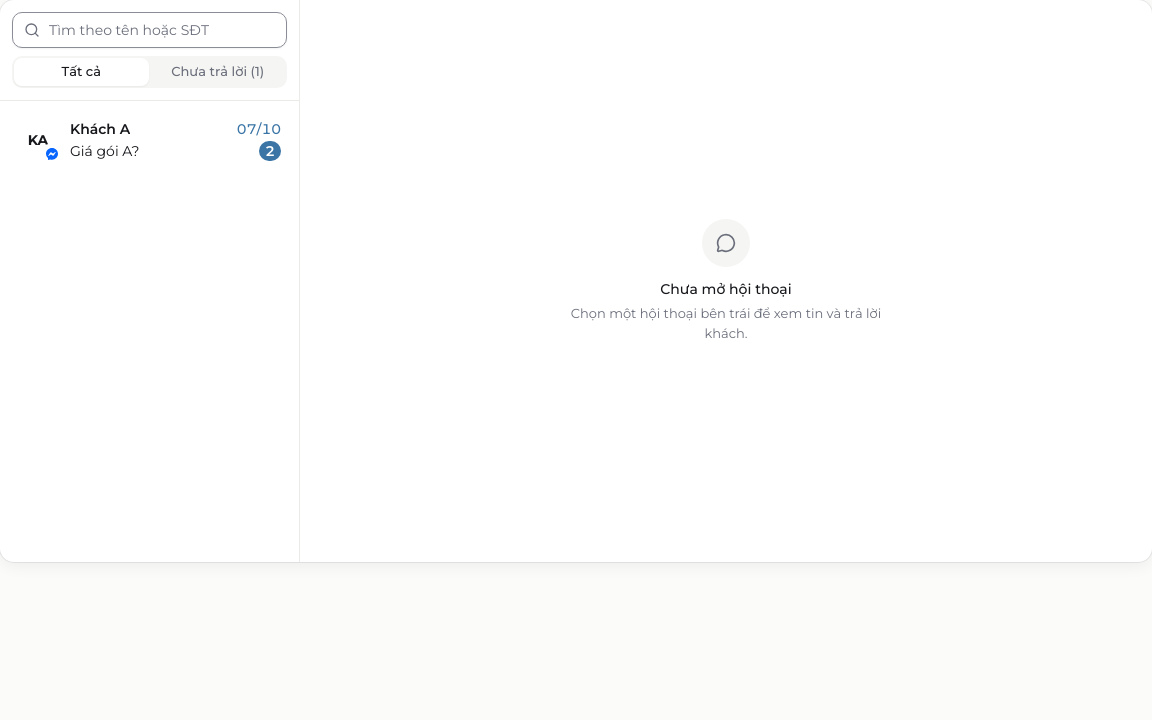
it: <FacebookPanel> › hộp thư: 24h–7 ngày ⇒ vẫn trả lời được, ghi rõ chỉ nhân viên trong 7 ngày
Step 1. Click the button "KA Khách A 07/10 Giá gói A? 2" → (38, 140), box [8,109,291,171]
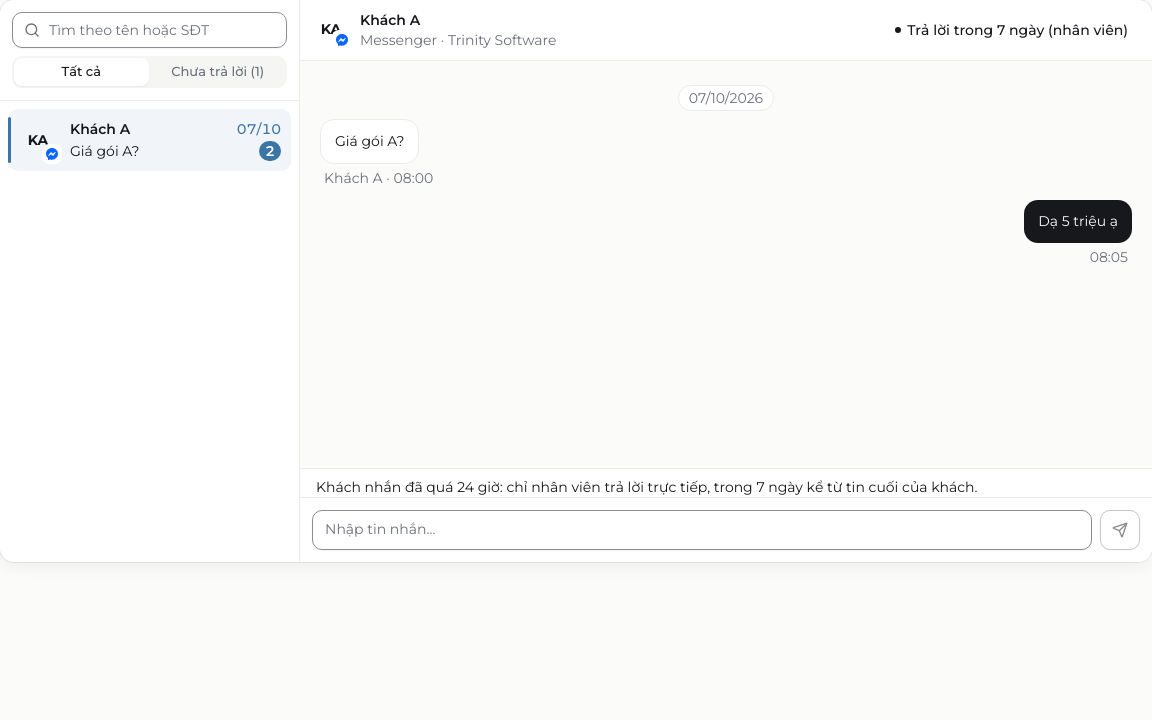
Check: the text "Trả lời trong 7 ngày (nhân viên)" is shown, box [887,18,1136,42]
Check: the text box named "Nội dung trả lời" is shown, box [312,510,1092,550]
